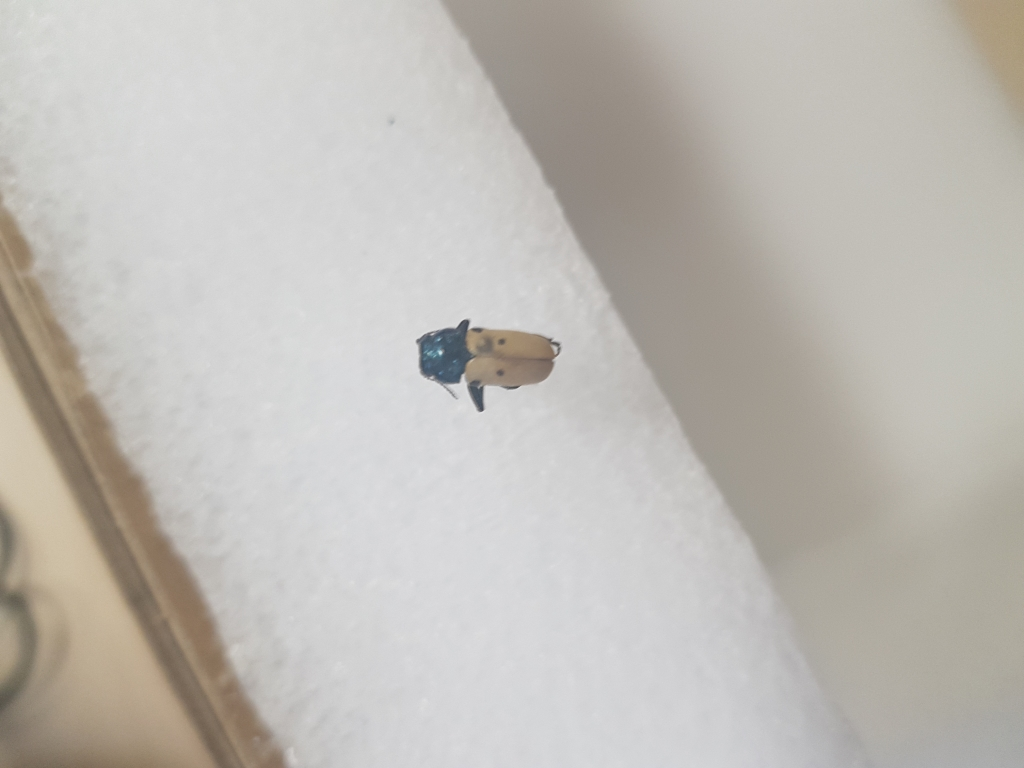Labidostomis_maculipennis: (404, 314, 566, 409)
